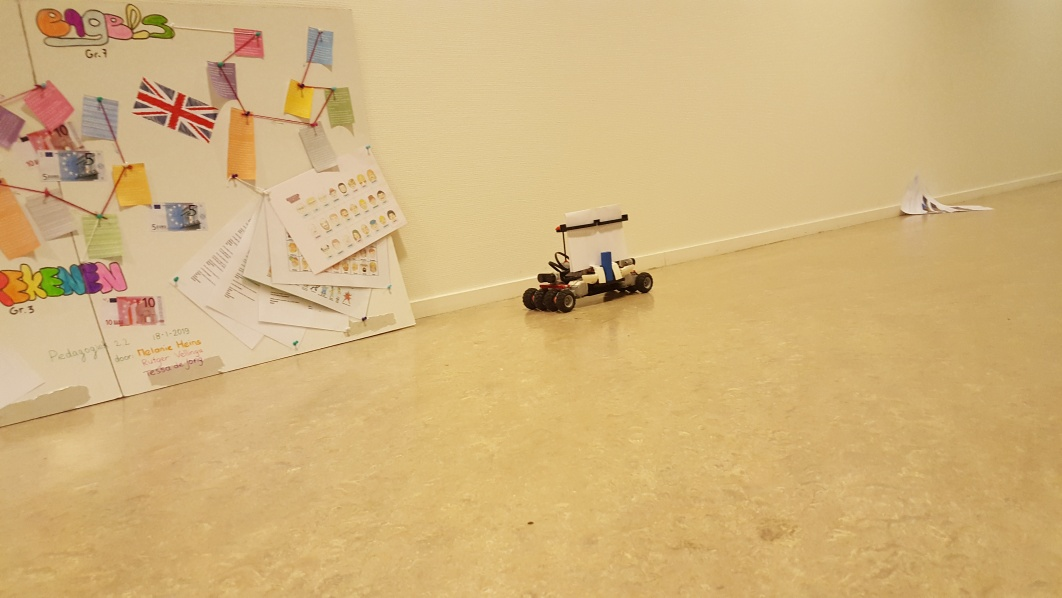car: (520, 200, 654, 312)
